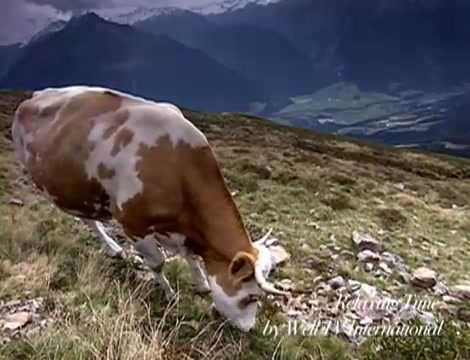cow: (12, 85, 292, 333)
